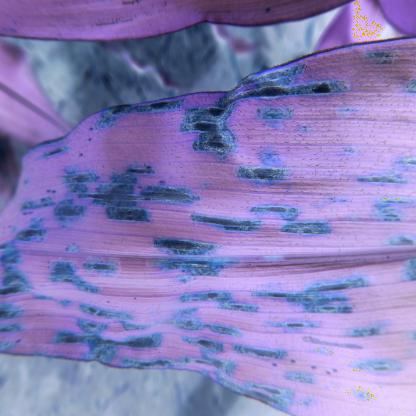Corn leaf blight: (4, 65, 416, 397)
